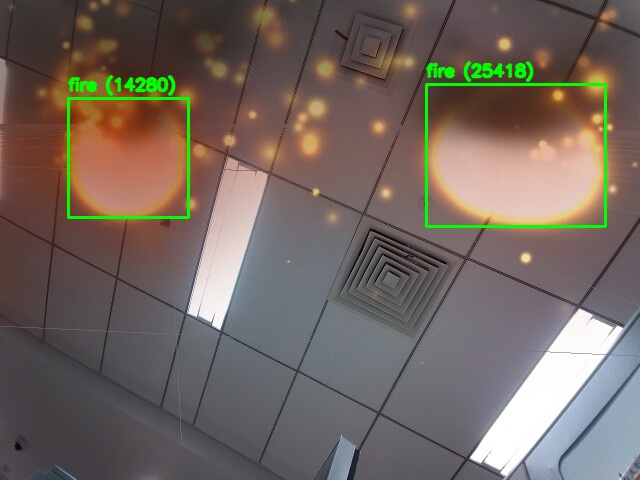fire: (426, 84, 605, 226), (68, 98, 188, 217)
